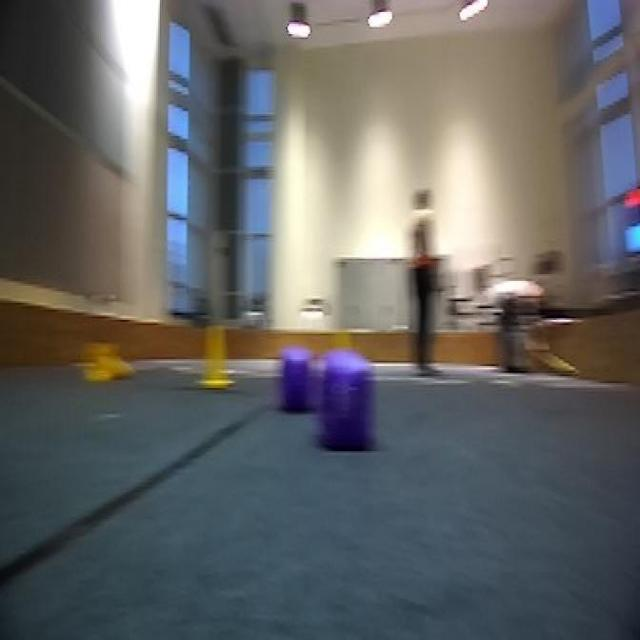frc_cone: (81, 335, 138, 388), (196, 328, 235, 386)
frc_cube: (319, 354, 371, 444), (280, 351, 315, 414)
